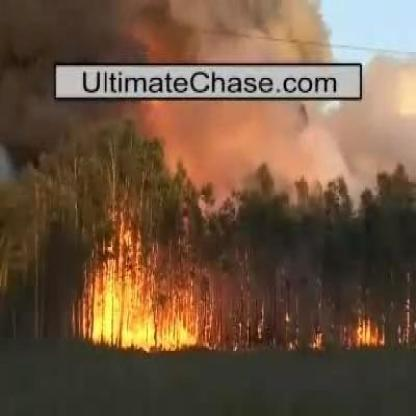-: (41, 2, 321, 60), (164, 102, 377, 160)
foggia-v2-map80-epoch100 - v1 4323: (83, 236, 198, 348)
